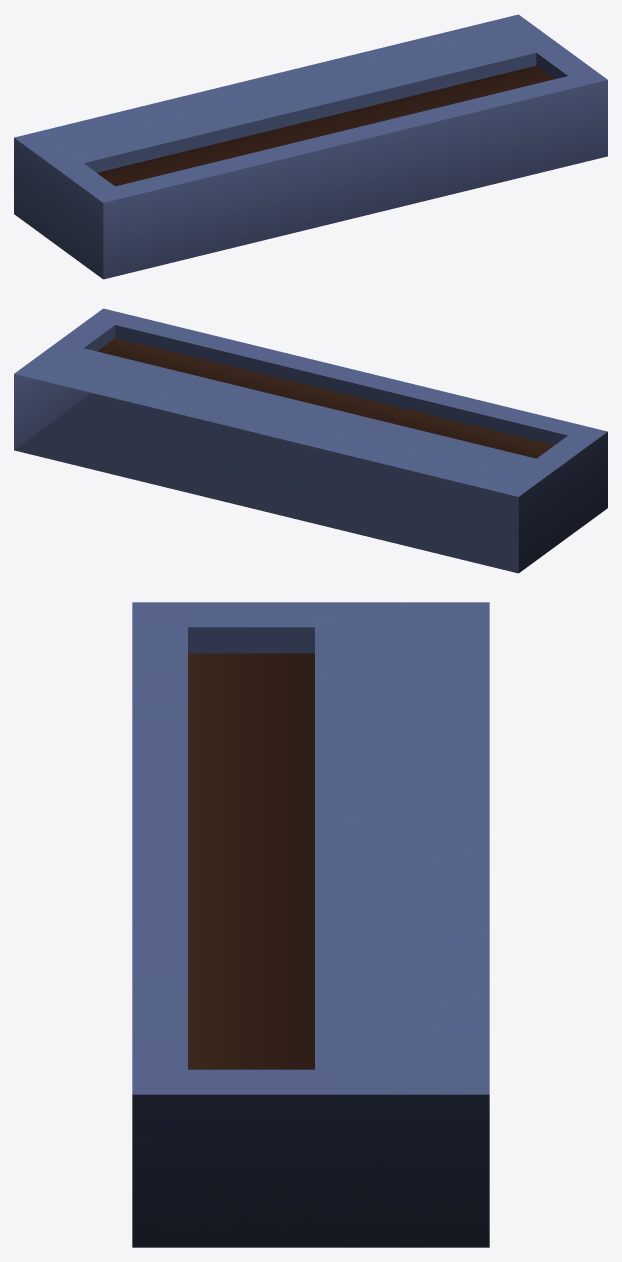
The model's file is Window_FlowerPot_02A.fbx.
3 views of the same model, one above another, from view 1: azimuth 30°, elevation 25°; view 2: azimuth 150°, elevation 25°; view 3: azimuth 270°, elevation 25° (orthographic). The views are drawn at different scales.
Visible parts, largest first — view 1: Window_FlowerPot_02A; view 2: Window_FlowerPot_02A; view 3: Window_FlowerPot_02A.
Part boxes in pixels (x1,y1,x2,y2): Window_FlowerPot_02A: (14,14,607,279); Window_FlowerPot_02A: (14,308,607,573); Window_FlowerPot_02A: (132,602,489,1247).
Size of the model in its own units: 218 by 31.55 by 66.78.
1 material, 1 textured.
